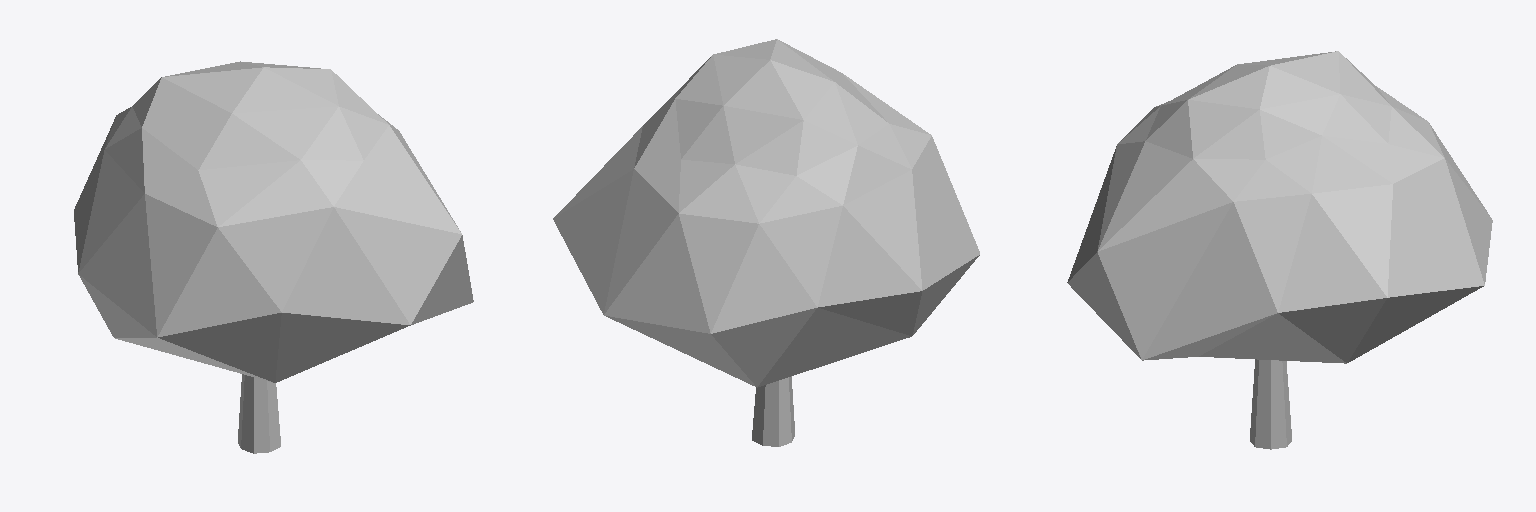
File: tree-oak3.obj
3 views of the same model, side by side, from view 1: azimuth 30°, elevation 25°; view 2: azimuth 150°, elevation 25°; view 3: azimuth 270°, elevation 25° (orthographic).
Visible parts, largest first — view 1: stalk_Cube.001; view 2: stalk_Cube.001; view 3: stalk_Cube.001.
Part boxes in pixels (left/top/right/bottom): stalk_Cube.001: left=74, top=61, right=473, bottom=453; stalk_Cube.001: left=553, top=39, right=979, bottom=446; stalk_Cube.001: left=1067, top=51, right=1492, bottom=449.
Size of the model in its own units: 4.64 by 5.12 by 5.15.